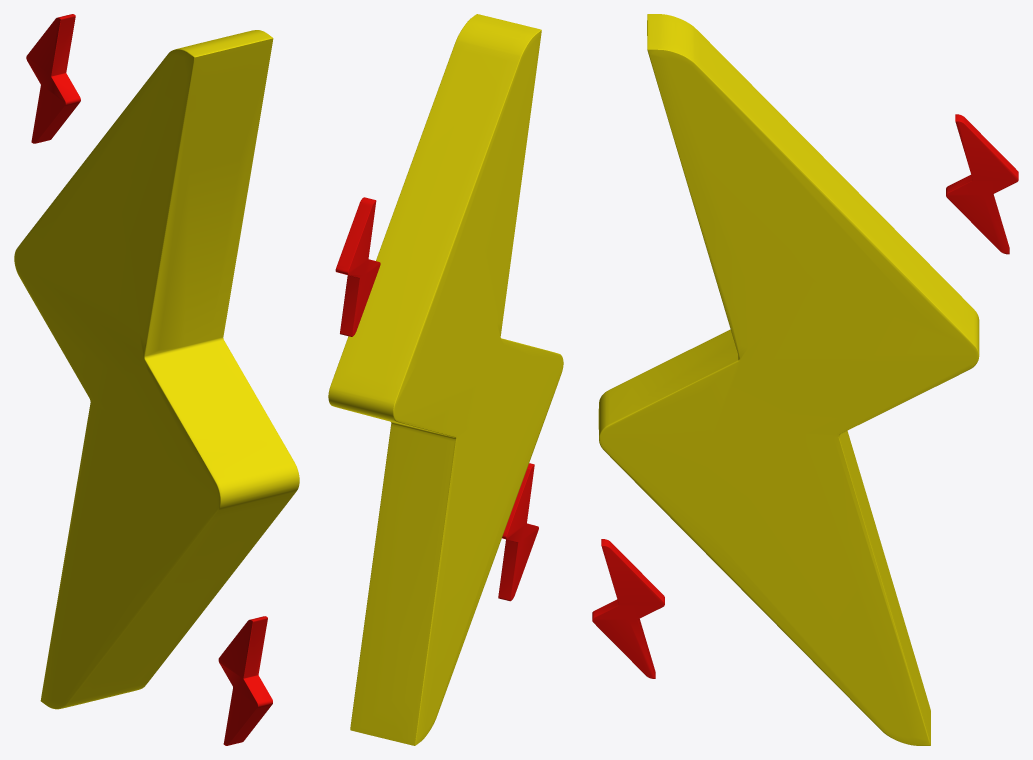
Rendered from Speed.fbx.
3 renders of one model, left to right at view 1: azimuth 30°, elevation 25°; view 2: azimuth 150°, elevation 25°; view 3: azimuth 270°, elevation 25°, orthographic. The views are drawn at different scales.
Parts seen in each view (by area): view 1: Cube.021; view 2: Cube.021; view 3: Cube.021.
Boxes of the visible parts, bbox=[...] form: Cube.021: bbox=[14, 14, 299, 745]; Cube.021: bbox=[328, 14, 563, 745]; Cube.021: bbox=[592, 14, 1018, 745].
Bounding box in the file's own units: 1.51 × 13.74 × 7.62.
